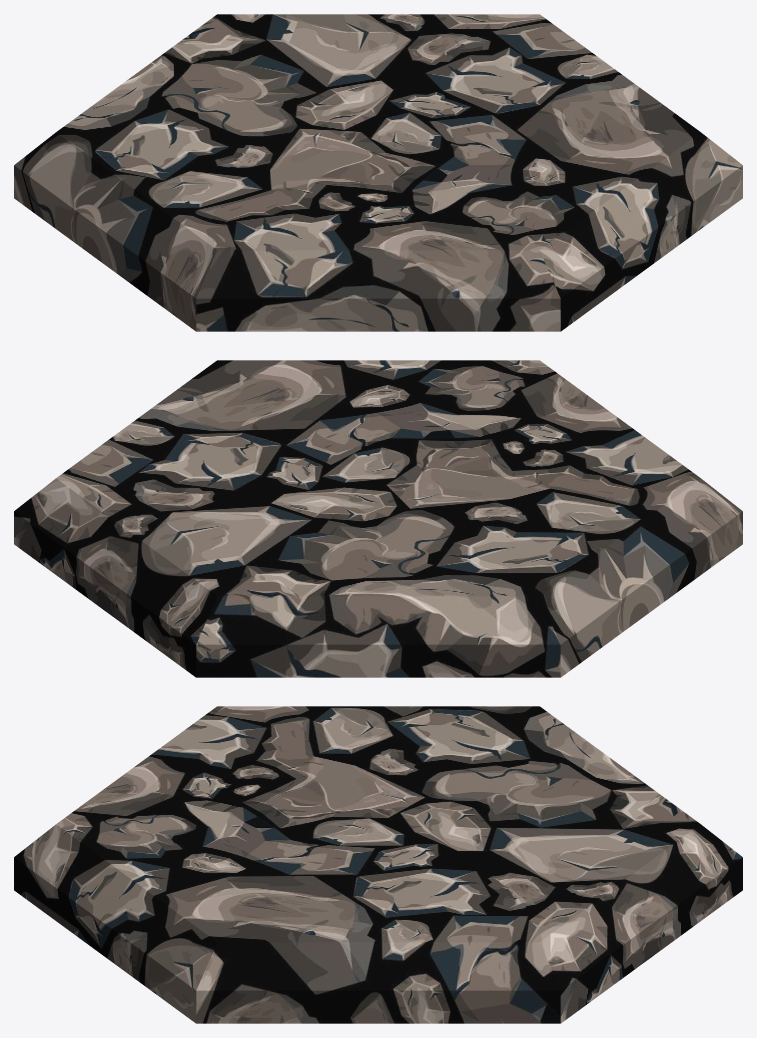
The model's file is Tile.fbx.
The picture shows the model from 3 angles, top to bottom: view 1: azimuth 30°, elevation 25°; view 2: azimuth 150°, elevation 25°; view 3: azimuth 270°, elevation 25°; orthographic projection.
Parts seen in each view (by area): view 1: TileHex; view 2: TileHex; view 3: TileHex.
Part boxes in pixels (x1,y1,x2,y2): TileHex: (14, 14, 742, 331); TileHex: (14, 360, 742, 677); TileHex: (14, 706, 742, 1023).
Size of the model in its own units: 86.6 by 10 by 100.
